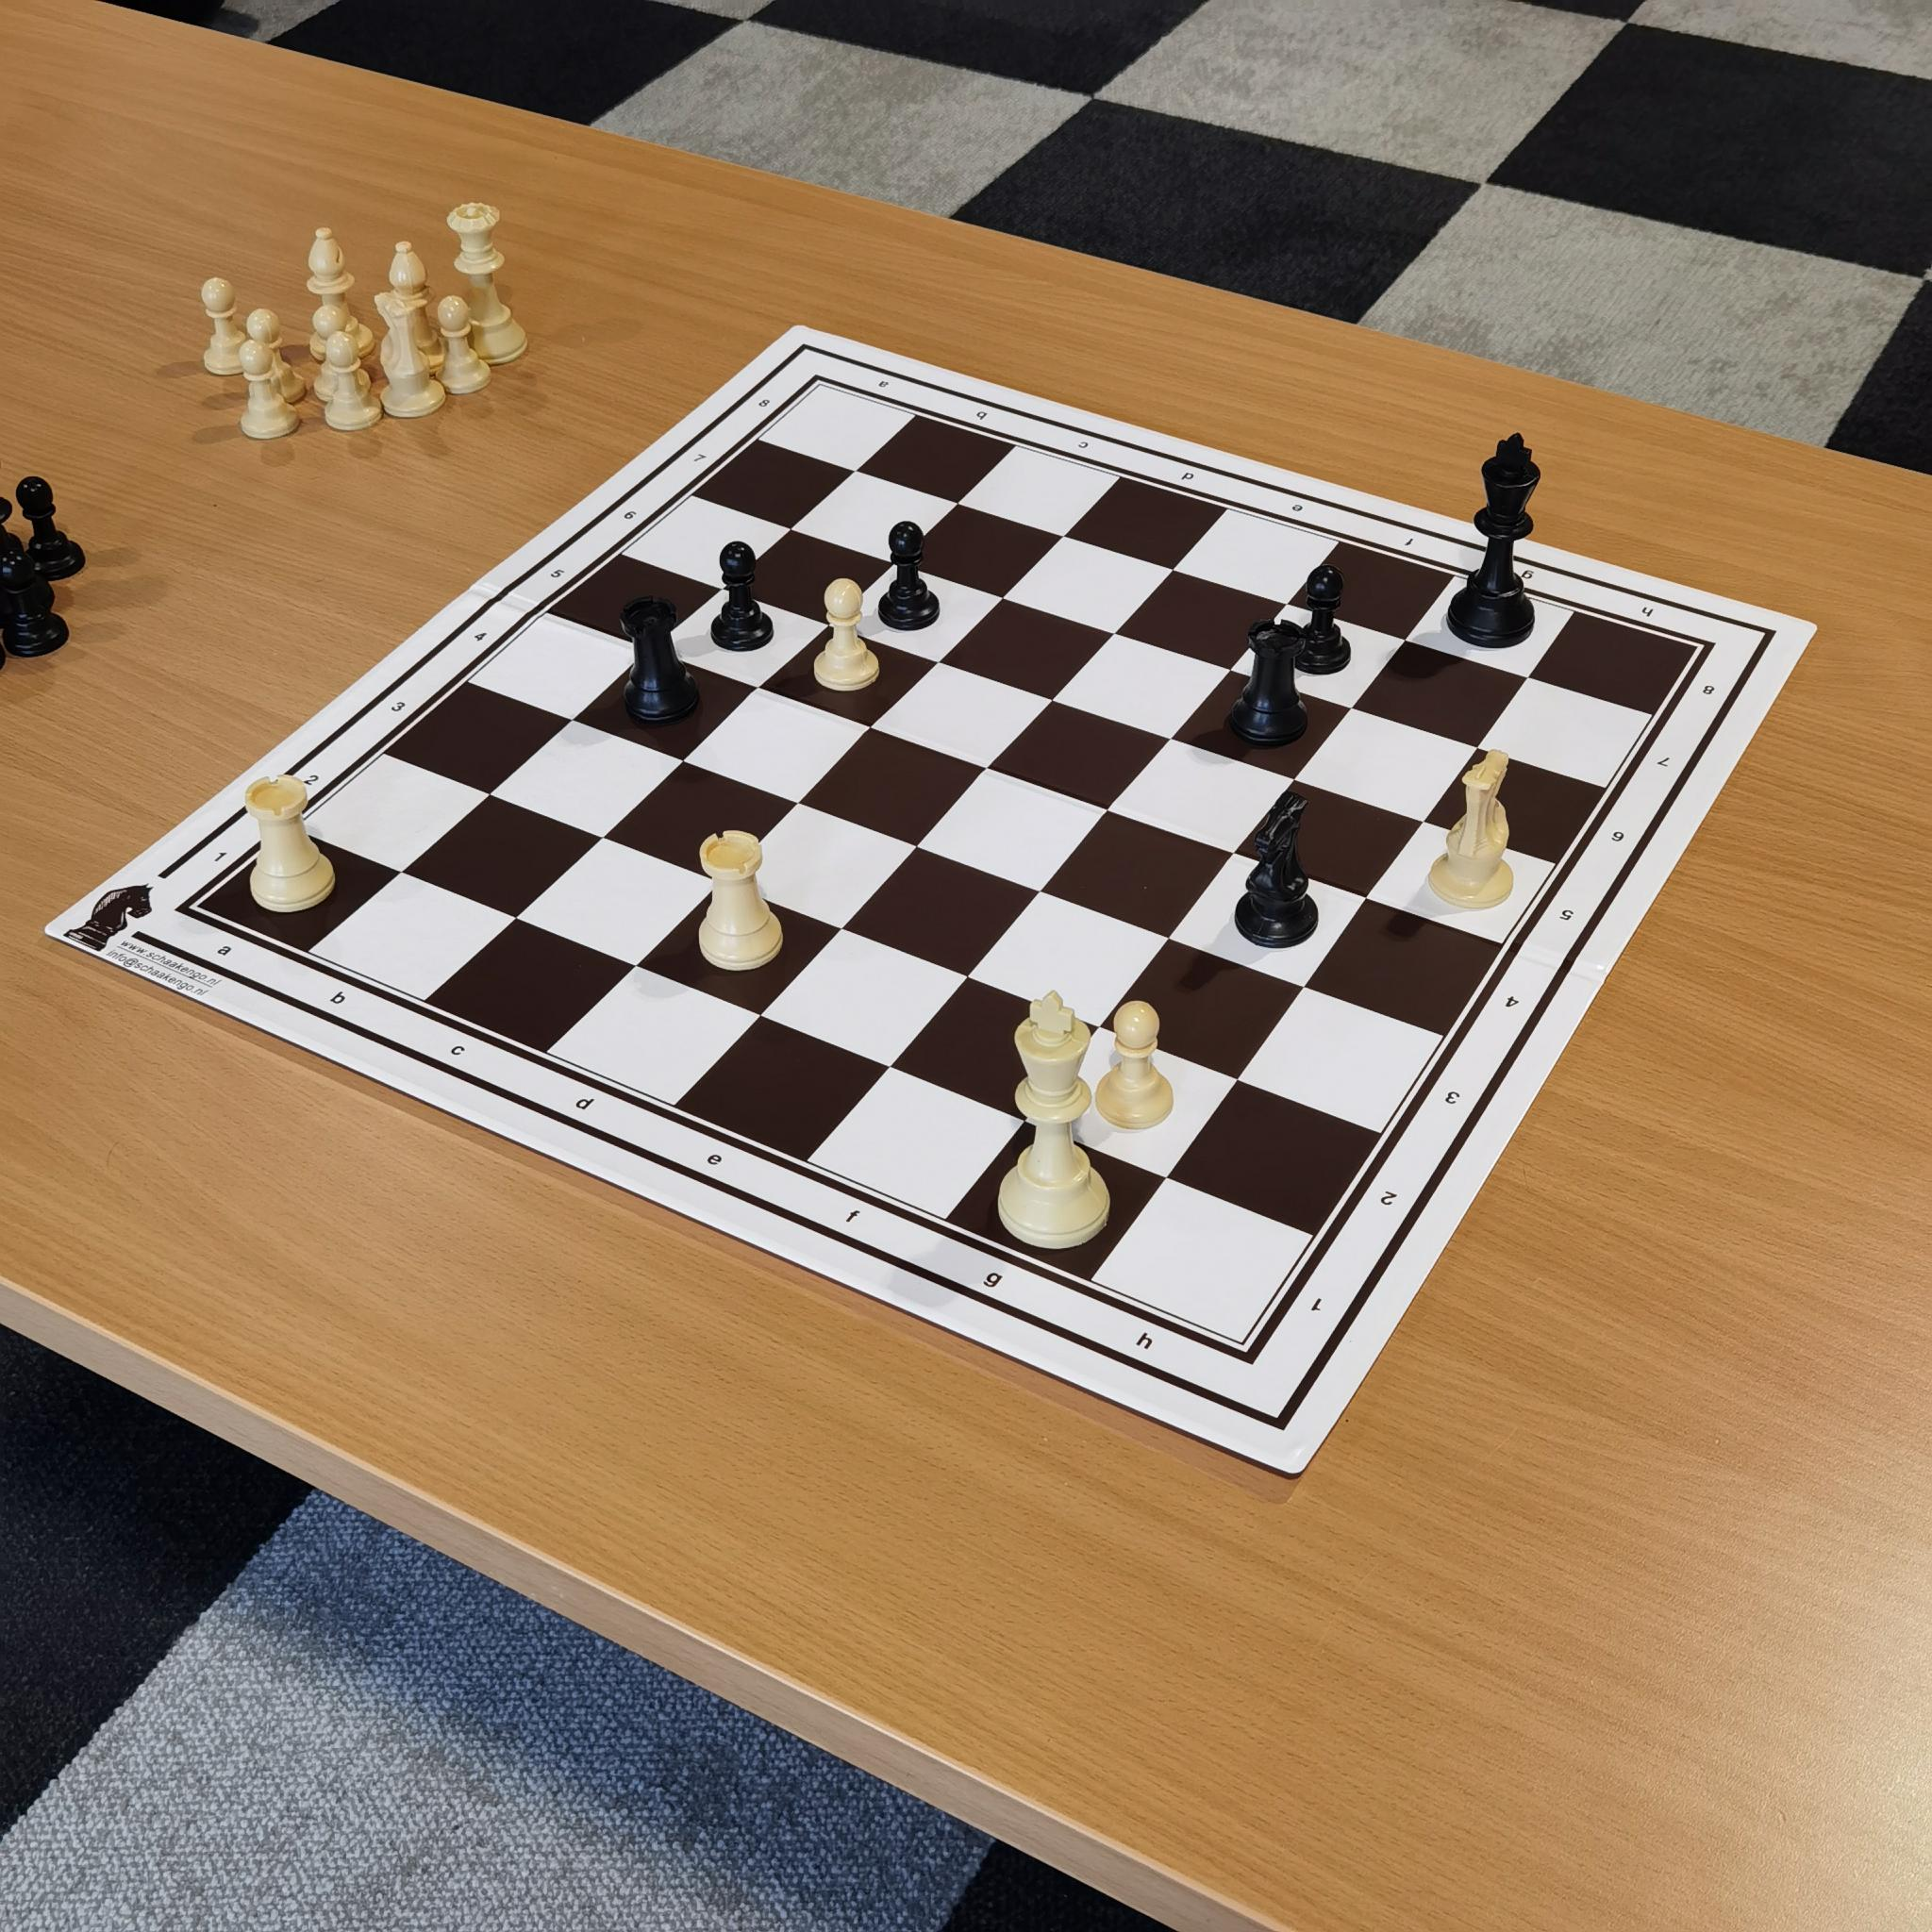corners: (1228, 1330, 1284, 1387), (166, 886, 225, 932), (1677, 632, 1732, 672), (800, 372, 847, 409)
eight: (1691, 667, 1734, 704), (748, 389, 786, 419)
one: (1292, 1274, 1343, 1327), (200, 837, 249, 878)
